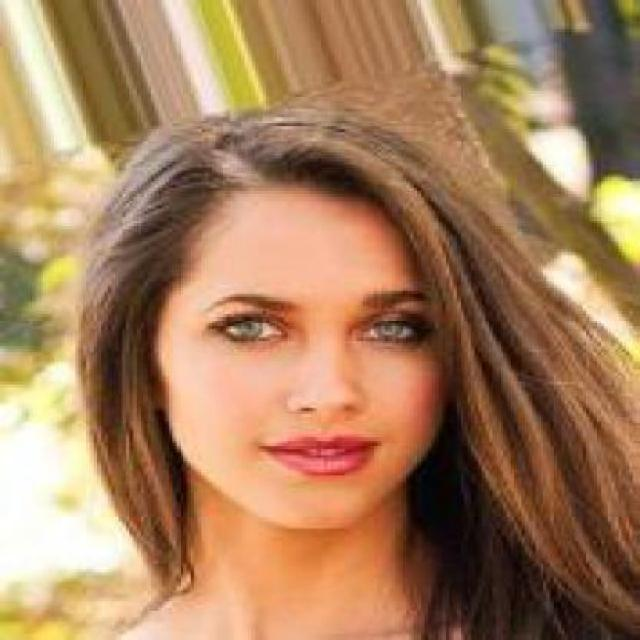closed-mouth: (262, 432, 384, 477)
